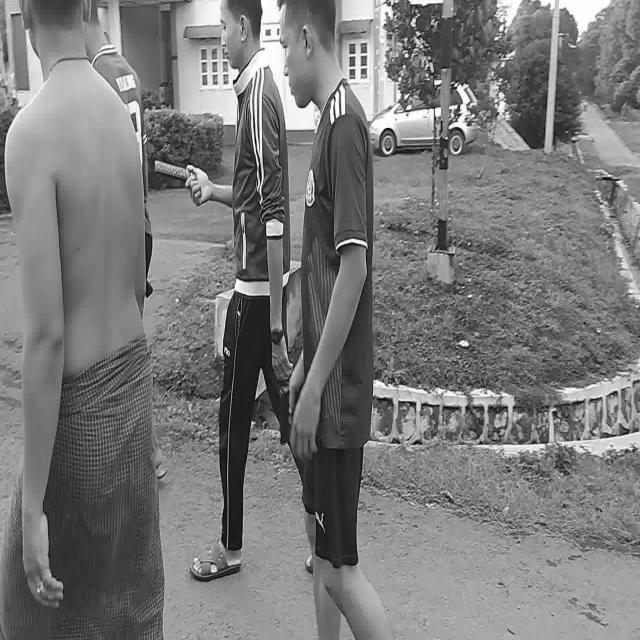gun: (279, 383, 291, 445)
